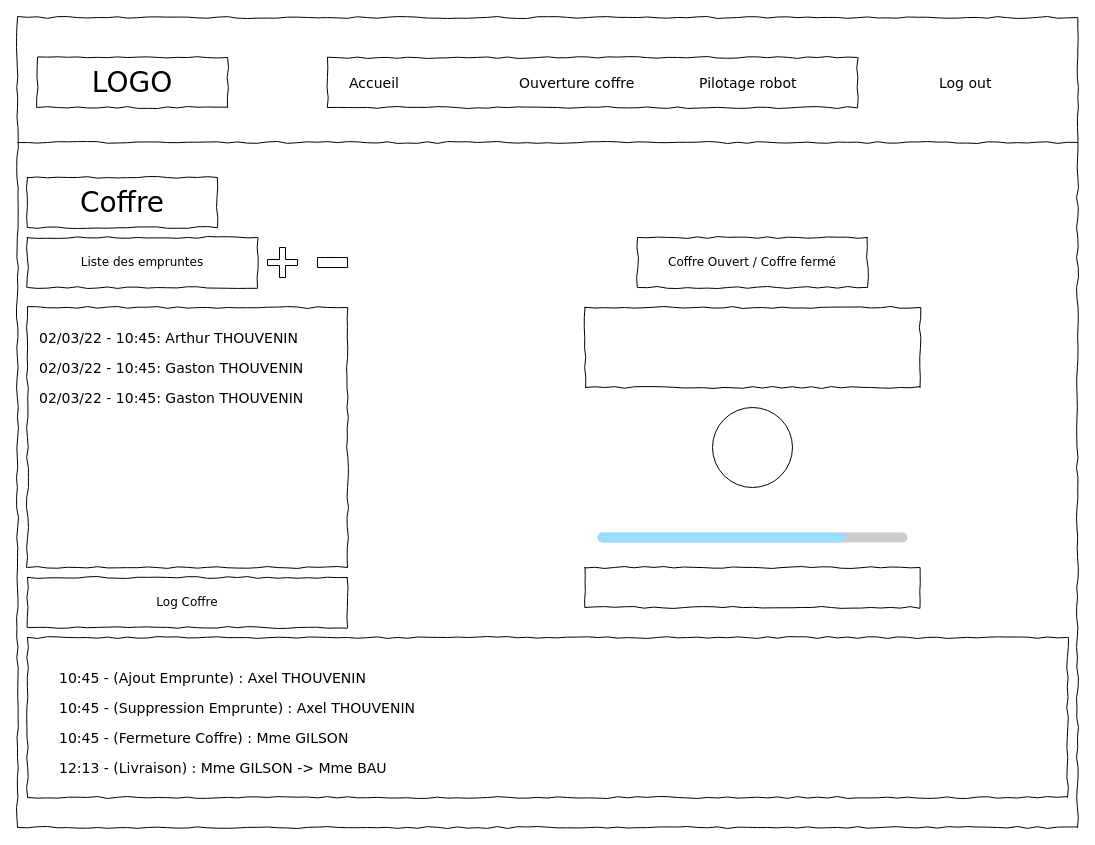
The diagram is 1095 pixels wide and 845 high, and some of its shapes have lost their labels. The shapes that lost their labels are listed below. From the top down, each one's centre as x and y in pixels, then its label:
(x=752, y=347): Ouverture en cours - Mettez votre doigt sur le capteur
(x=752, y=587): Coffre ouvert
